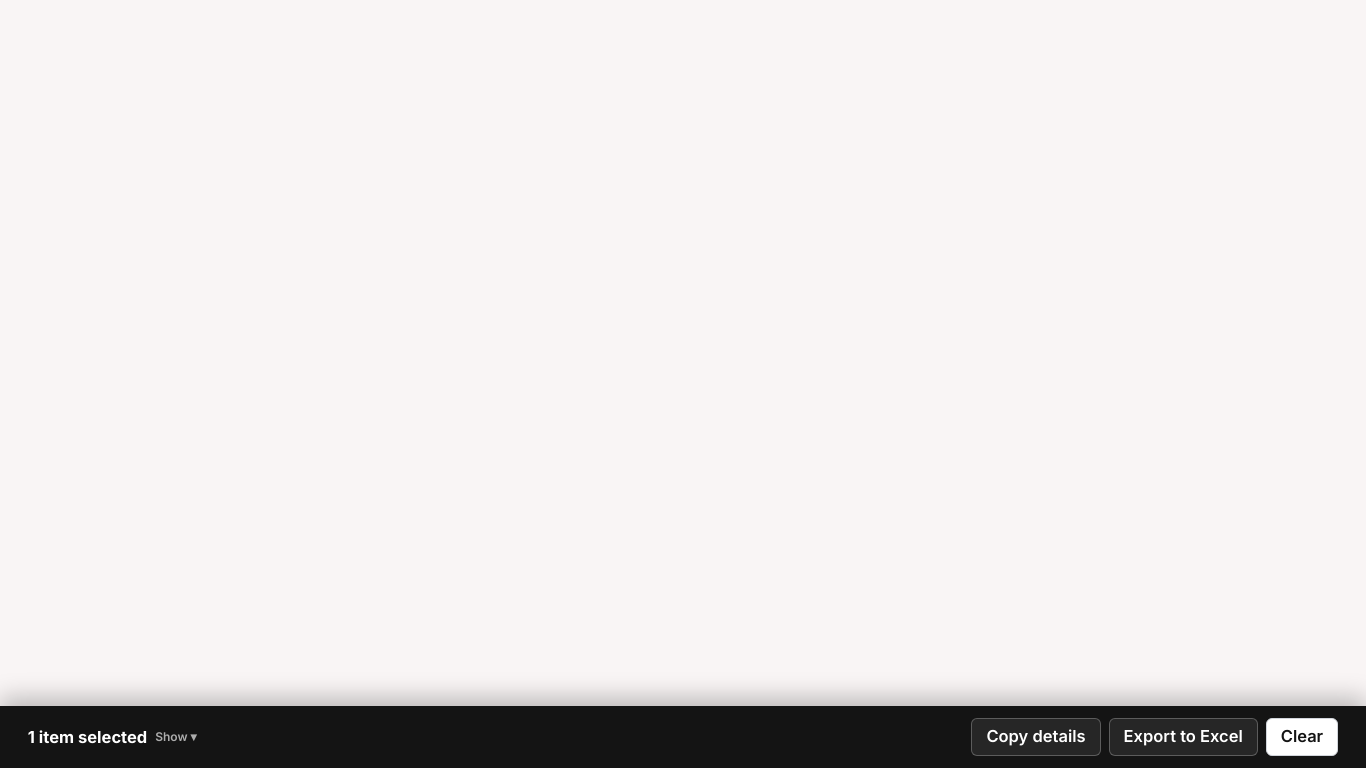
Scenario: SelectionTray › copies the selection to the clipboard via the bulk API and shows "Copied"
The width and height of the screenshot is (1366, 768).
Click the button "Copy details" at (1036, 737), box left=971, top=718, right=1101, bottom=756
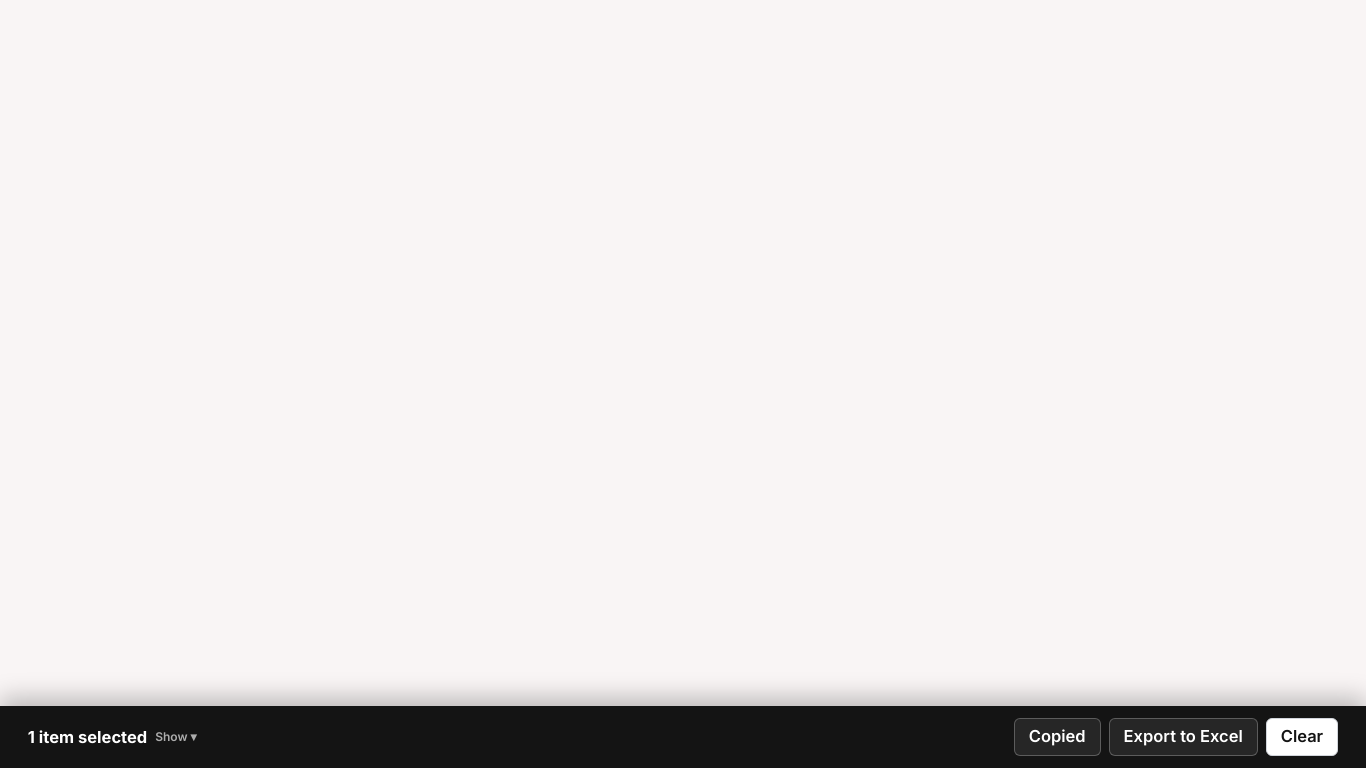
Check: the button "Copied" is shown, box left=1014, top=718, right=1101, bottom=756
